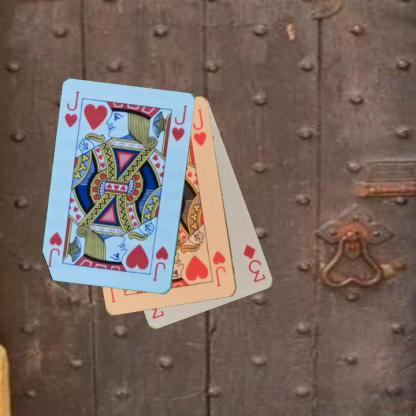3d: (240, 242, 267, 284)
Jh: (209, 247, 228, 288), (62, 88, 81, 129), (150, 244, 170, 282)
